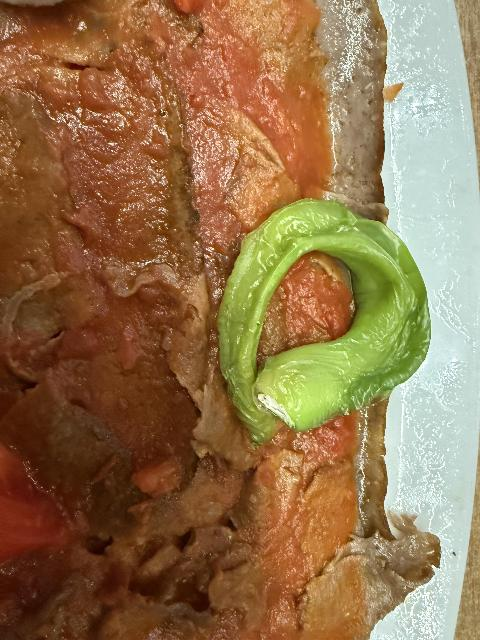Organik: (0, 75, 214, 640), (227, 206, 435, 417), (0, 432, 83, 578)
